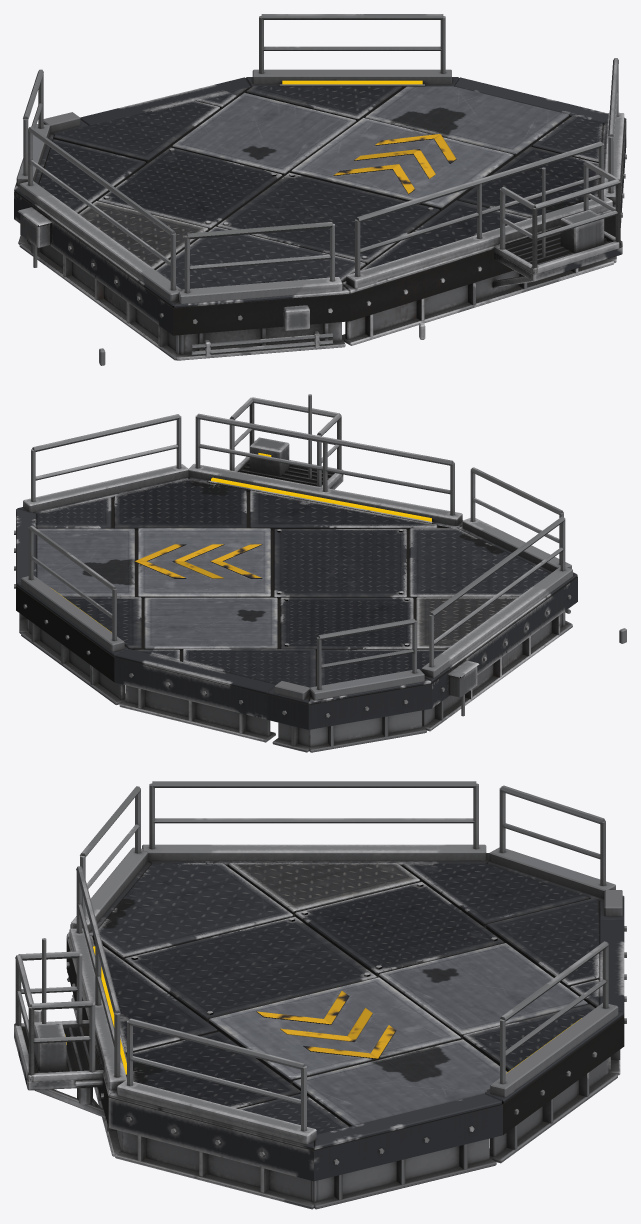
The model's file is nodexeus-set-deck-s1.glb.
3 views of the same model, one above another, from view 1: azimuth 30°, elevation 25°; view 2: azimuth 150°, elevation 25°; view 3: azimuth 270°, elevation 25° (orthographic). The views are drawn at different scales.
Visible parts, largest first — view 1: set-deck-s1; view 2: set-deck-s1; view 3: set-deck-s1.
Part boxes in pixels (x1,y1,x2,y2): set-deck-s1: (14,14,626,365); set-deck-s1: (14,394,626,752); set-deck-s1: (14,781,626,1209).
Bounding box in the file's own units: 9.29 × 2.13 × 7.3.
1 material, 1 textured.
